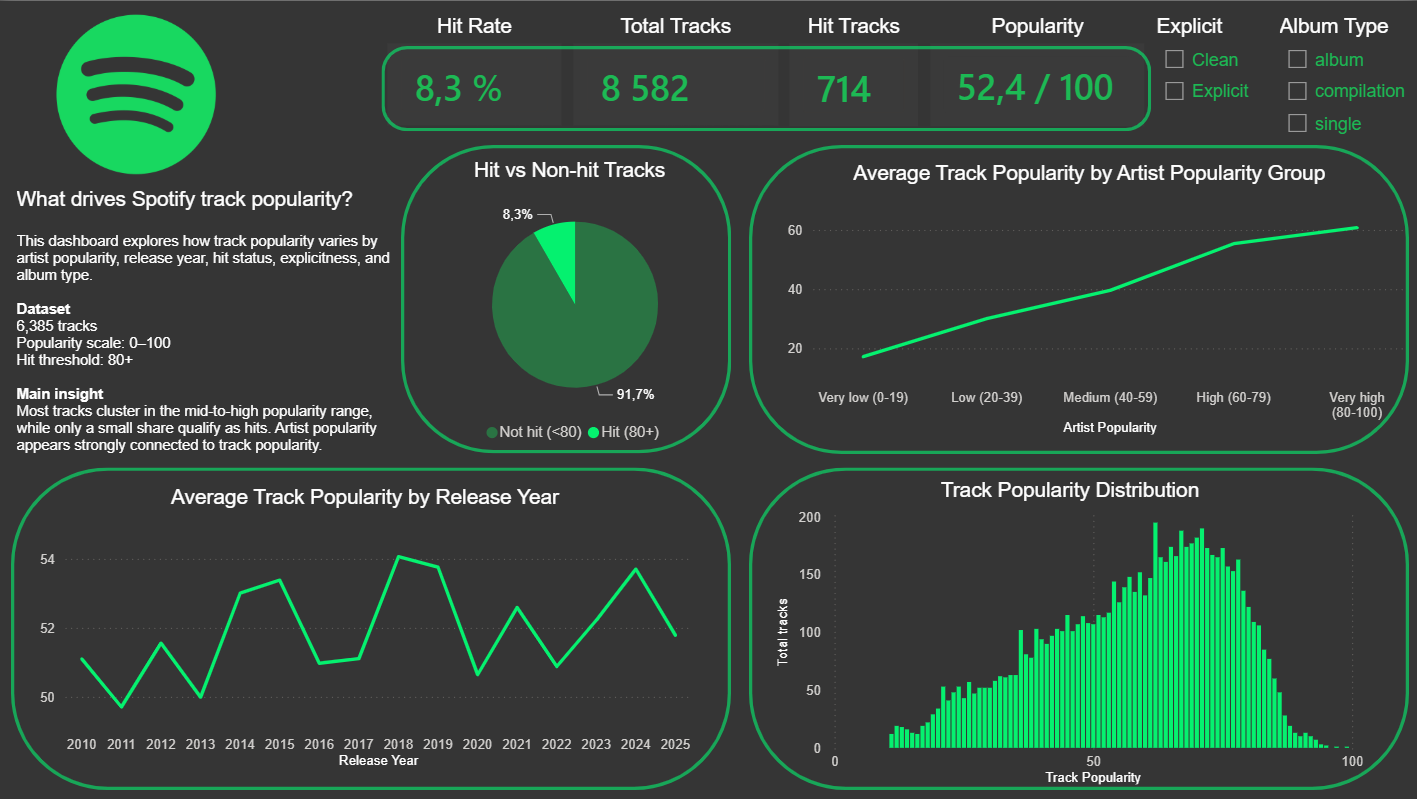

Layout of this report page (visuals, bound fields, positions):
{"tool":"powerbi","page":{"name":"Overview","canvas":[1280,720],"ordinal":0},"visuals":[{"type":"cardVisual","title":"Total Tracks","fields":{"Data":["Spotify.Total Tracks Display"]},"box":[511.9,12.4,195.2,105.6],"z":0},{"type":"shape","box":[675.7,420.3,594.6,290.5],"z":500},{"type":"cardVisual","title":"Popularity","fields":{"Data":["Spotify.Average Popularity Display"]},"box":[834.1,12.1,203.6,106.1],"z":1000},{"type":"cardVisual","title":"Hit Tracks","fields":{"Data":["Spotify.Hit Tracks"]},"box":[707.3,12.1,126.8,106.1],"z":2000},{"type":"cardVisual","title":"Hit Rate","fields":{"Data":["Spotify.Hit Rate"]},"box":[344.6,12.4,167.3,105.6],"z":3000},{"type":"shape","box":[344.2,40.5,693.5,76.8],"z":3250},{"type":"shape","box":[675.7,129.7,594.6,278.4],"z":3500},{"type":"columnChart","title":"Track Popularity Distribution","fields":{"Y":["Spotify.Total Tracks"],"Category":["Spotify.Track Popularity Num"]},"box":[695.9,429.7,537.8,281.1],"z":4000},{"type":"slicer","title":"Album Type","fields":{"Values":["Spotify.album_type"]},"box":[1148.5,12,131.5,142.4],"z":5000},{"type":"image","box":[15.5,12.1,217.4,144],"z":6000},{"type":"lineChart","title":"Average Track Popularity by Artist Popularity Group","fields":{"Y":["Spotify.Average Popularity"],"Category":["Spotify.Artist Popularity Group"]},"box":[683.1,144,596.9,251],"z":7000},{"type":"slicer","title":"Explicit","fields":{"Values":["Spotify.Explicit Label"]},"box":[1037.9,12,110.6,118.5],"z":8000},{"type":"shape","box":[10.8,420.3,648.6,290.5],"z":8500},{"type":"lineChart","title":"Average Track Popularity by Release Year","fields":{"Y":["Spotify.Average Popularity"],"Category":["Spotify.Release Year"]},"box":[31.1,436.5,597.3,259.5],"z":9000},{"type":"shape","box":[362.3,130.2,297.6,277.7],"z":9500},{"type":"donutChart","title":"Hit Count","fields":{"Category":["Spotify.Hit Status"],"Y":["Spotify.Track Count"]},"box":[360.5,167.3,315.7,240.6],"z":10000},{"type":"textbox","title":"Hit vs Non-hit Tracks","box":[423.5,141.5,186.3,25],"z":16000},{"type":"textbox","title":"What drives Spotify track popularity?","box":[10.6,168.1,349.8,252.9],"z":17000}]}

Visuals, with their boxes in screenshot pixels (x1, y1, x2, y2), scaled from the page's 1280x720 canvas onto the 1417x799 screenshot:
"Total Tracks" cardVisual: BBox(567, 14, 783, 131)
shape: BBox(748, 466, 1406, 789)
"Popularity" cardVisual: BBox(923, 13, 1149, 131)
"Hit Tracks" cardVisual: BBox(783, 13, 923, 131)
"Hit Rate" cardVisual: BBox(381, 14, 567, 131)
shape: BBox(381, 45, 1149, 130)
shape: BBox(748, 144, 1406, 453)
"Track Popularity Distribution" columnChart: BBox(770, 477, 1366, 789)
"Album Type" slicer: BBox(1271, 13, 1416, 171)
image: BBox(17, 13, 258, 173)
"Average Track Popularity by Artist Popularity Group" lineChart: BBox(756, 160, 1416, 438)
"Explicit" slicer: BBox(1149, 13, 1271, 145)
shape: BBox(12, 466, 730, 789)
"Average Track Popularity by Release Year" lineChart: BBox(34, 484, 696, 772)
shape: BBox(401, 144, 731, 453)
"Hit Count" donutChart: BBox(399, 186, 749, 453)
"Hit vs Non-hit Tracks" textbox: BBox(469, 157, 675, 185)
"What drives Spotify track popularity?" textbox: BBox(12, 187, 399, 467)
